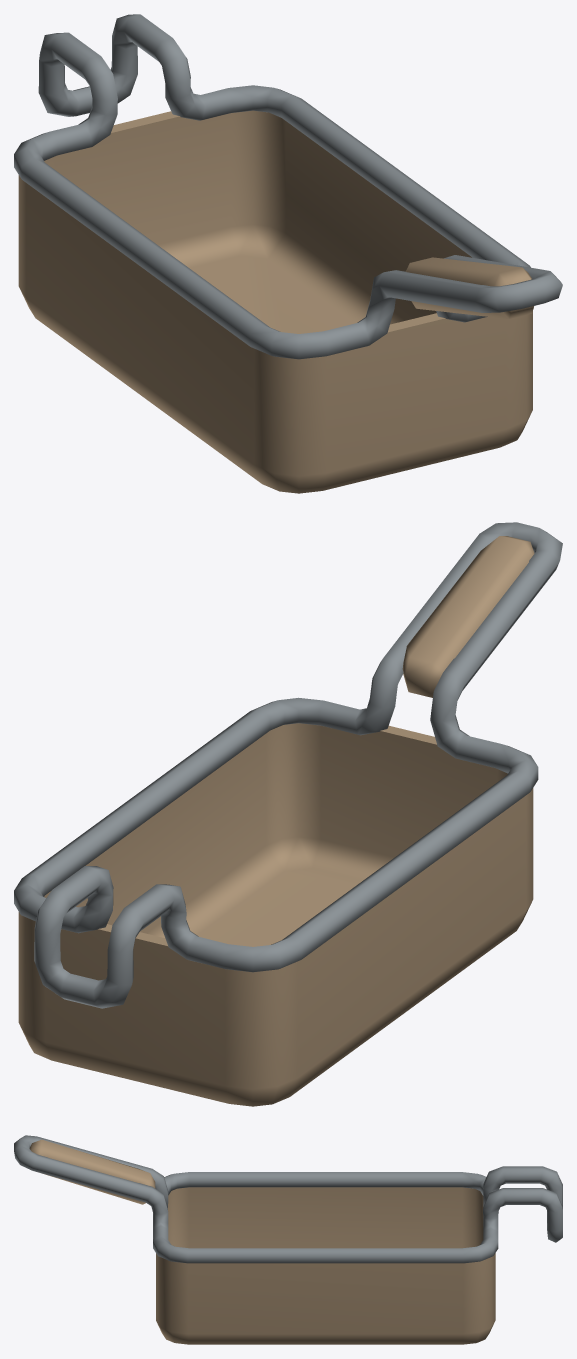
The model's file is SM_fryer_bascet.fbx.
3 views of the same model, one above another, from view 1: azimuth 30°, elevation 25°; view 2: azimuth 150°, elevation 25°; view 3: azimuth 270°, elevation 25° (orthographic). The views are drawn at different scales.
Parts seen in each view (by area): view 1: SM_fryer_bascet; view 2: SM_fryer_bascet; view 3: SM_fryer_bascet.
Boxes of the visible parts, x1,y1,x2,y2 form: SM_fryer_bascet: (14,14,562,493); SM_fryer_bascet: (14,522,562,1106); SM_fryer_bascet: (14,1135,562,1344).
Bounding box in the file's own units: 29.27 × 28.18 × 82.33.
